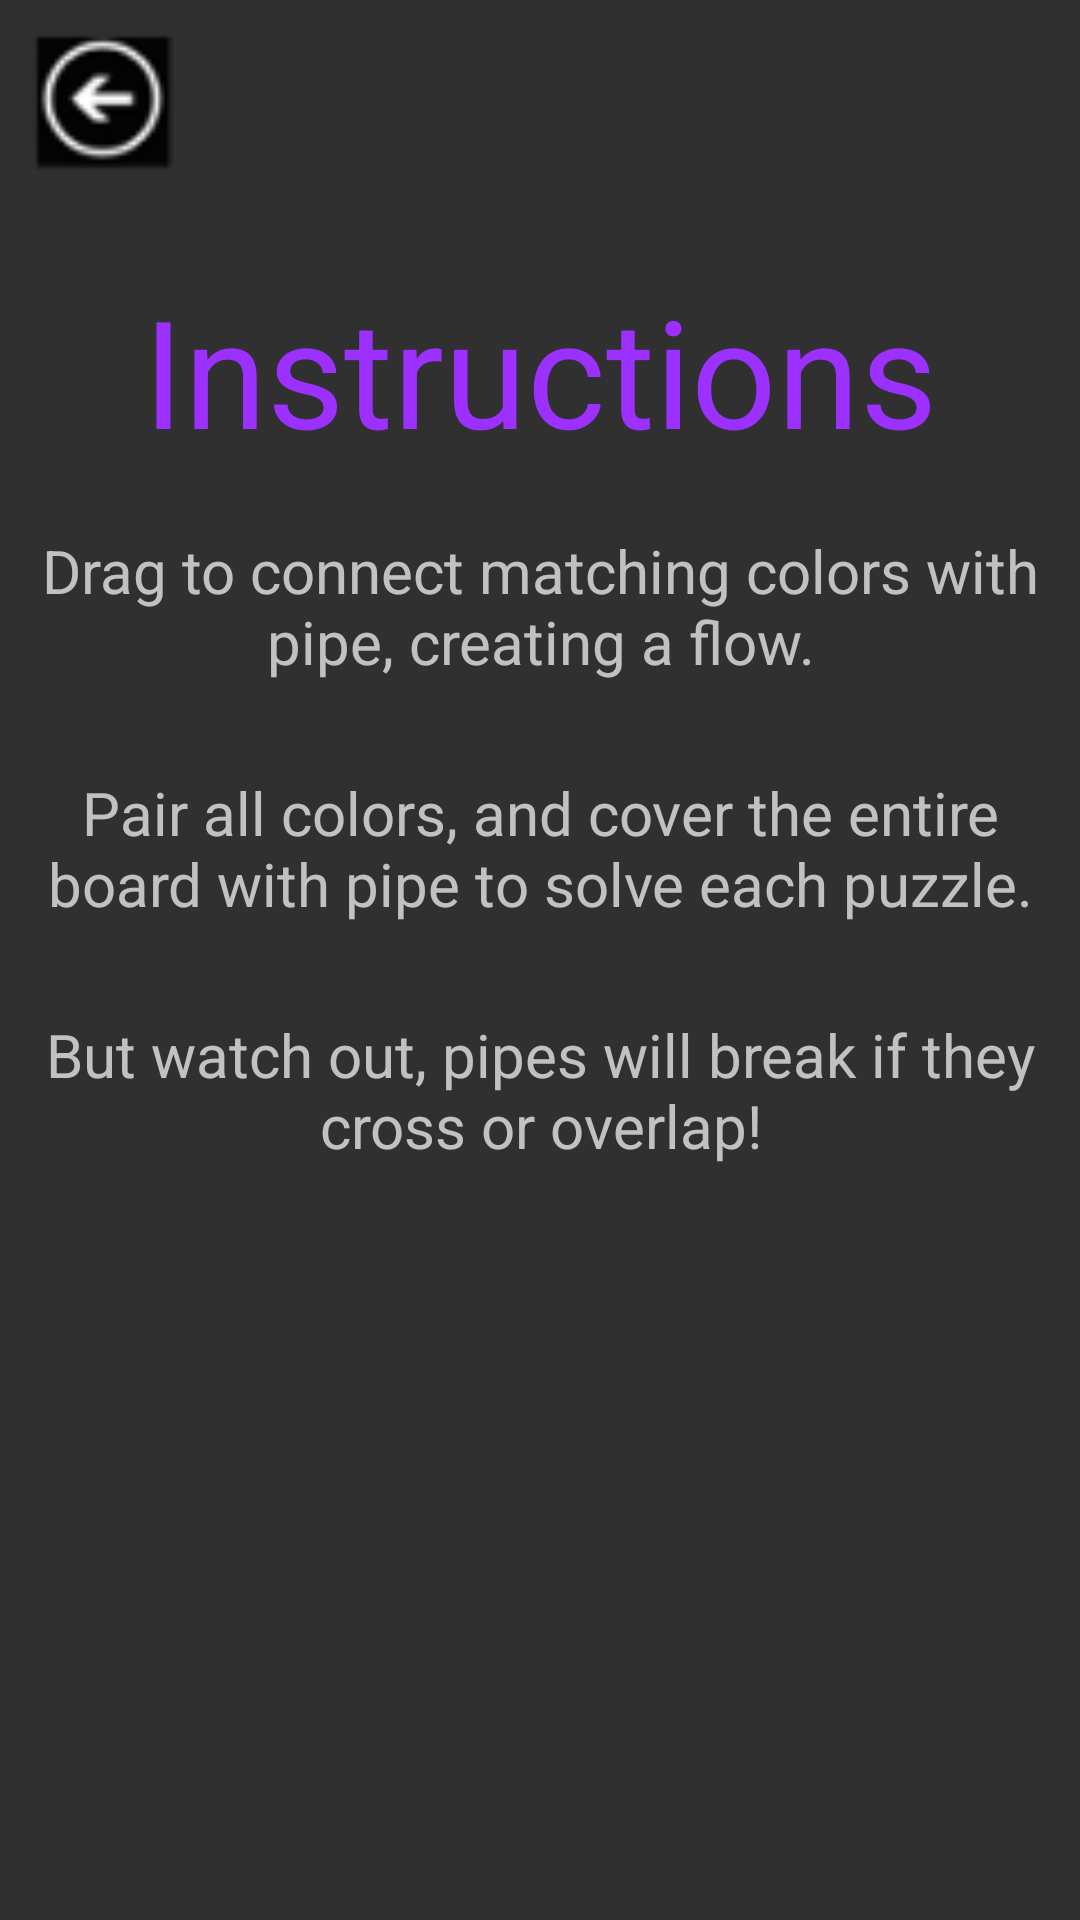

Icons on this 1080*1920 Android screen, each with its box as (x1, y1, x2, y2):
backbutton: (37, 37, 169, 167)
